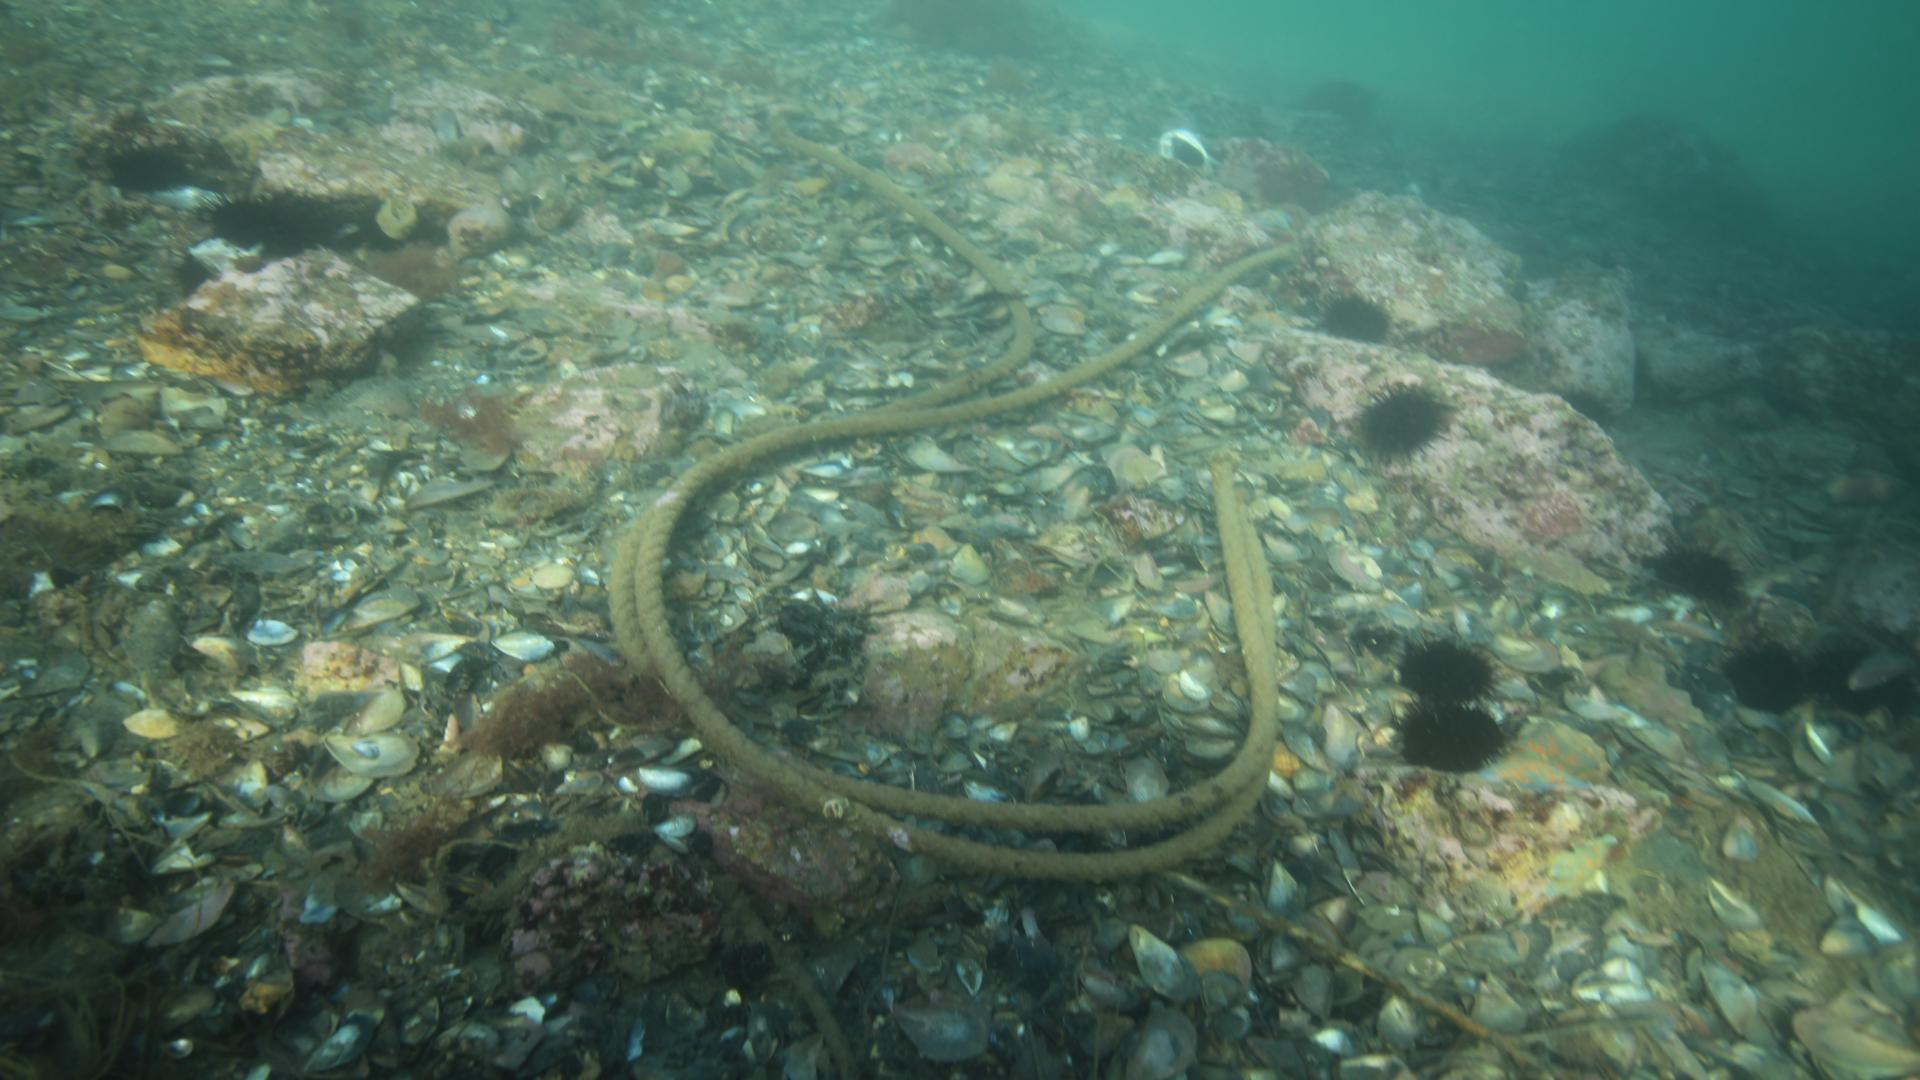bundle of ropes: (599, 133, 1316, 895)
